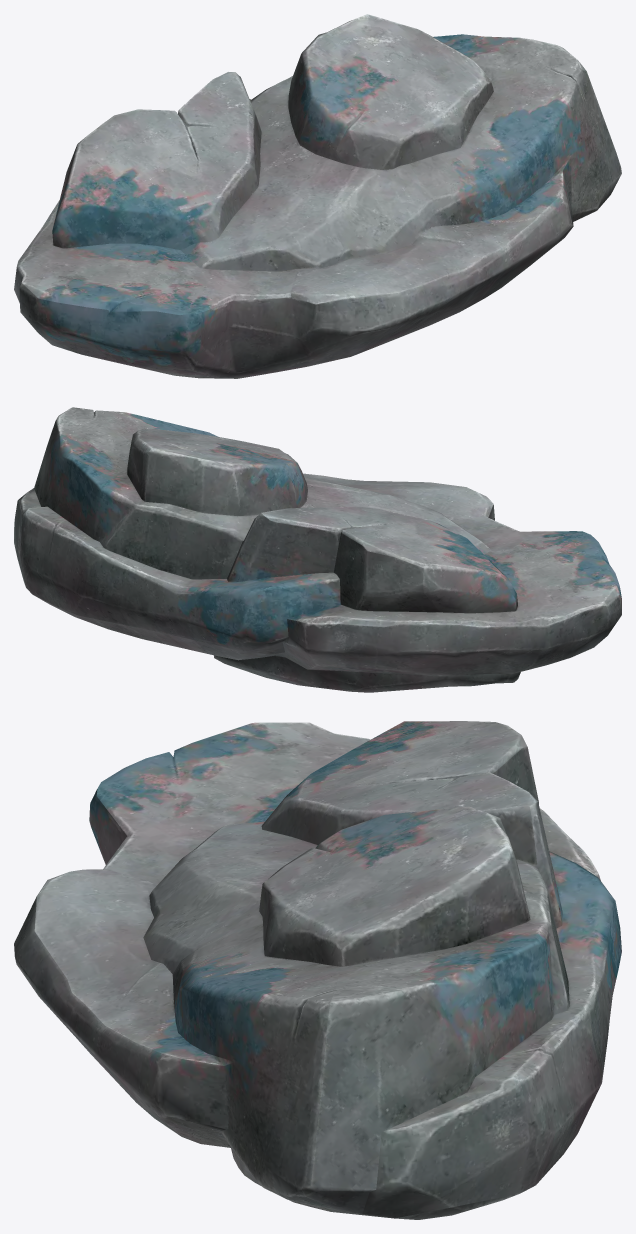
The picture shows the model from 3 angles, top to bottom: view 1: azimuth 30°, elevation 25°; view 2: azimuth 150°, elevation 25°; view 3: azimuth 270°, elevation 25°; orthographic projection. The views are drawn at different scales.
Parts seen in each view (by area): view 1: SM_Mining_Node_Large_Runite_01_LOD0; view 2: SM_Mining_Node_Large_Runite_01_LOD0; view 3: SM_Mining_Node_Large_Runite_01_LOD0.
Boxes of the visible parts, <box> form: SM_Mining_Node_Large_Runite_01_LOD0: <box>14,14,621,378</box>; SM_Mining_Node_Large_Runite_01_LOD0: <box>14,407,621,692</box>; SM_Mining_Node_Large_Runite_01_LOD0: <box>14,721,621,1219</box>.
Size of the model in its own units: 5.5 by 2.12 by 3.35.
Materials: 1 (1 with a texture image).
